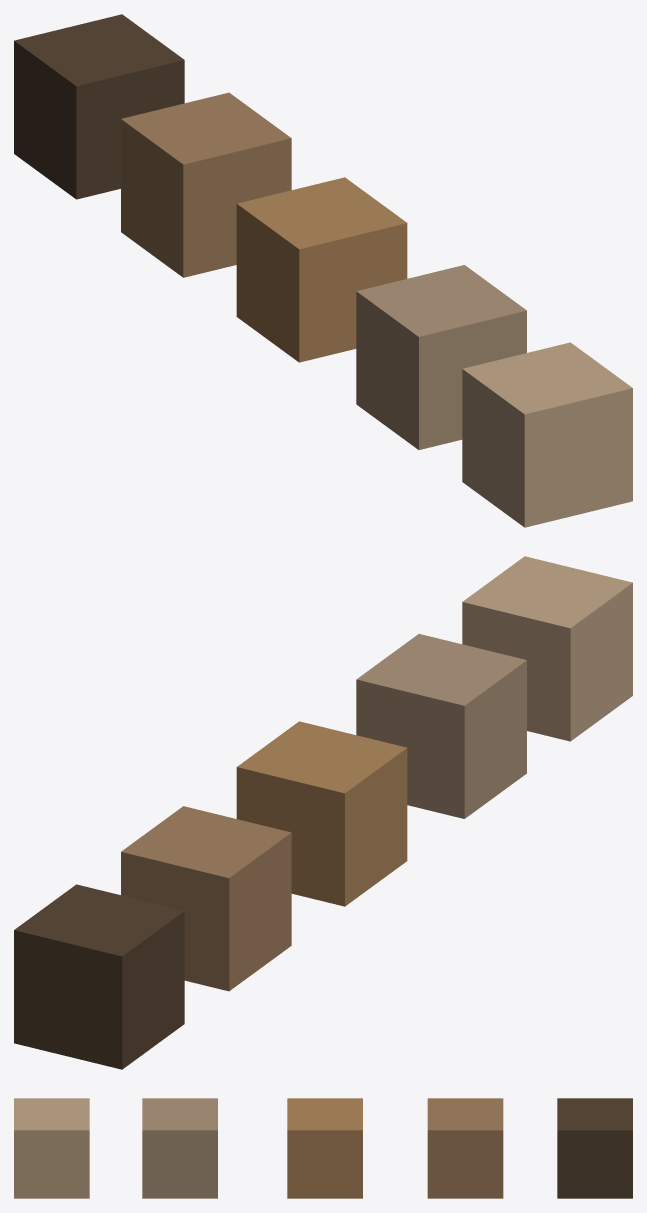
The model's file is Skins.fbx.
The picture shows the model from 3 angles, top to bottom: view 1: azimuth 30°, elevation 25°; view 2: azimuth 150°, elevation 25°; view 3: azimuth 270°, elevation 25°; orthographic projection. The views are drawn at different scales.
Parts seen in each view (by area): view 1: pCube1, pCube3, pCube4, pCube5, pCube2; view 2: pCube5, pCube2, pCube3, pCube4, pCube1; view 3: pCube4, pCube1, pCube2, pCube3, pCube5.
Boxes of the visible parts, box(x1,y1,x2,y2) form: pCube1: box(462, 342, 632, 527); pCube3: box(236, 177, 407, 362); pCube4: box(121, 92, 291, 277); pCube5: box(14, 14, 184, 199); pCube2: box(356, 265, 526, 449); pCube5: box(14, 884, 184, 1069); pCube2: box(356, 634, 526, 818); pCube3: box(236, 721, 407, 906); pCube4: box(121, 806, 291, 991); pCube1: box(462, 556, 632, 741); pCube4: box(427, 1098, 503, 1198); pCube1: box(14, 1098, 89, 1198); pCube2: box(142, 1098, 217, 1198); pCube3: box(287, 1098, 362, 1198); pCube5: box(557, 1098, 632, 1198).
Bounding box in the file's own units: 0.01 × 0.01 × 0.0818.
